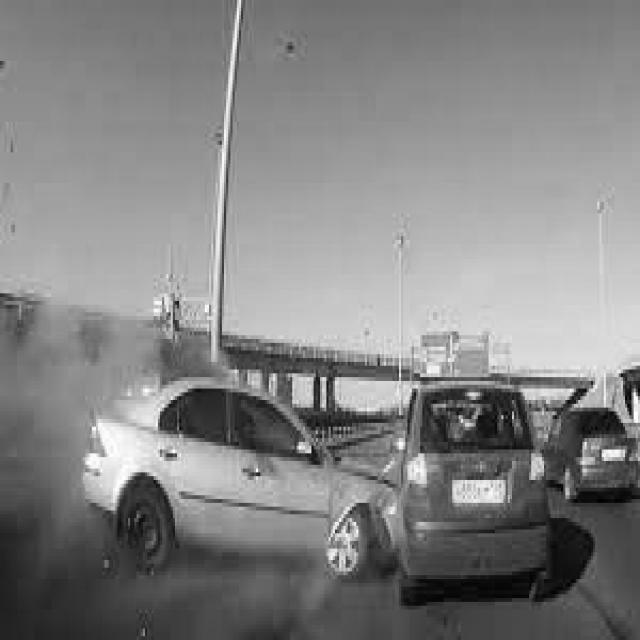accident: (78, 354, 560, 602)
vehicle: (543, 408, 640, 504)
